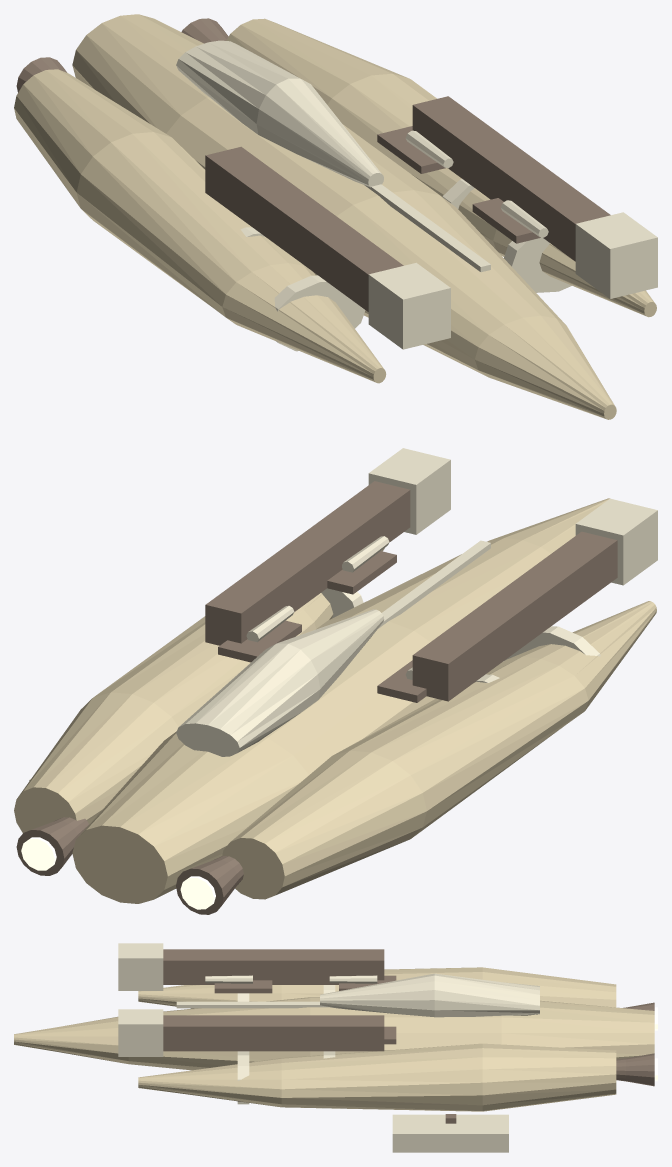
The picture shows the model from 3 angles, top to bottom: view 1: azimuth 30°, elevation 25°; view 2: azimuth 150°, elevation 25°; view 3: azimuth 270°, elevation 25°; orthographic projection. The views are drawn at different scales.
Size of the model in its own units: 12.04 by 5.15 by 26.67.
